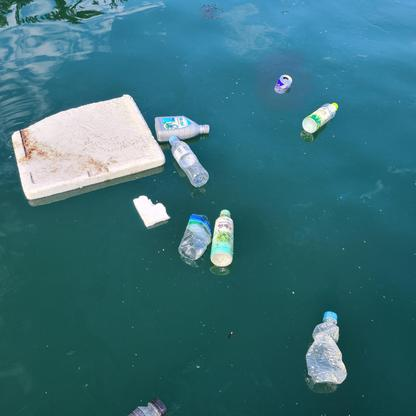can: (274, 75, 293, 93)
foam: (12, 94, 165, 205), (132, 194, 171, 228)
plastic bottle: (305, 311, 348, 385), (167, 135, 211, 187), (177, 210, 210, 263), (153, 113, 210, 141), (302, 98, 341, 134), (211, 208, 234, 267), (123, 397, 168, 416)
